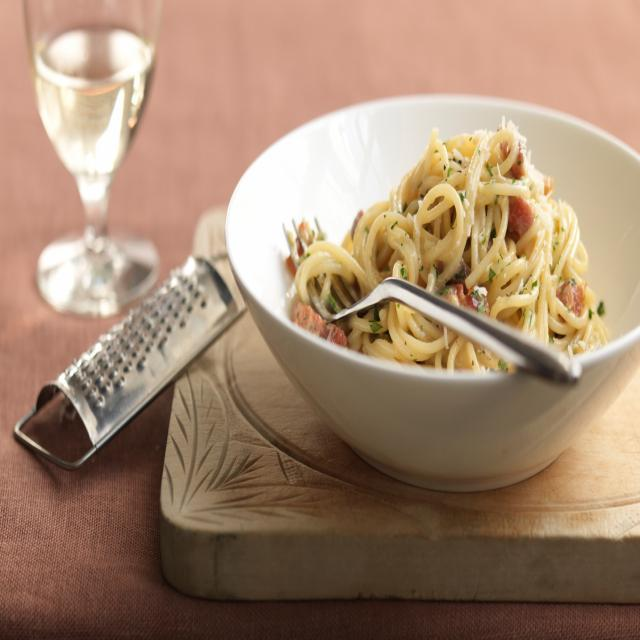Pasta with carbonara sauce: (269, 94, 620, 494)
